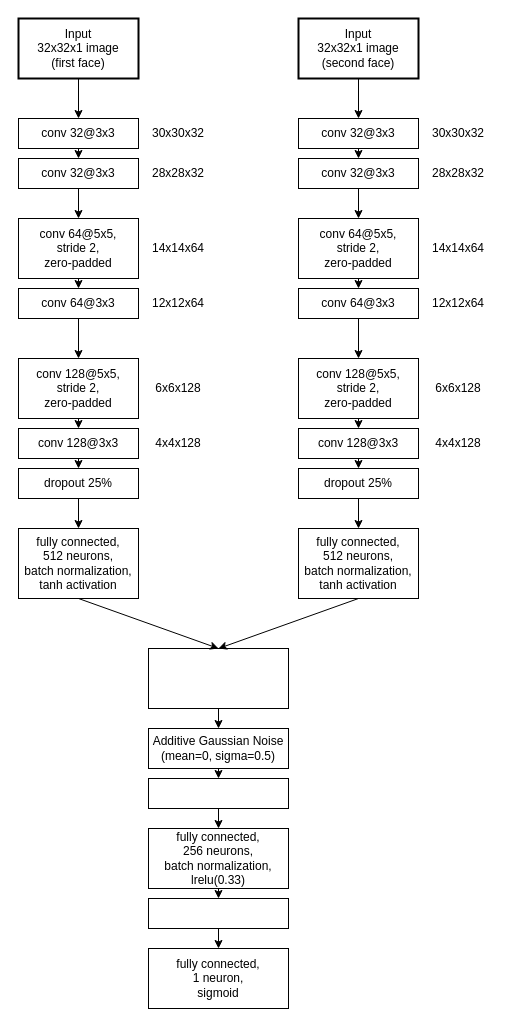
Some shapes in this 515 by 1026 pixel diagram are drawn without their labels. Here are the shapes that lost their labels. From the top down, the centre of each, then its label:
[218,678]: absolute difference, i.e. abs(tensor1 - tensor2)
[218,793]: Dropout 20%
[218,913]: Dropout 50%
